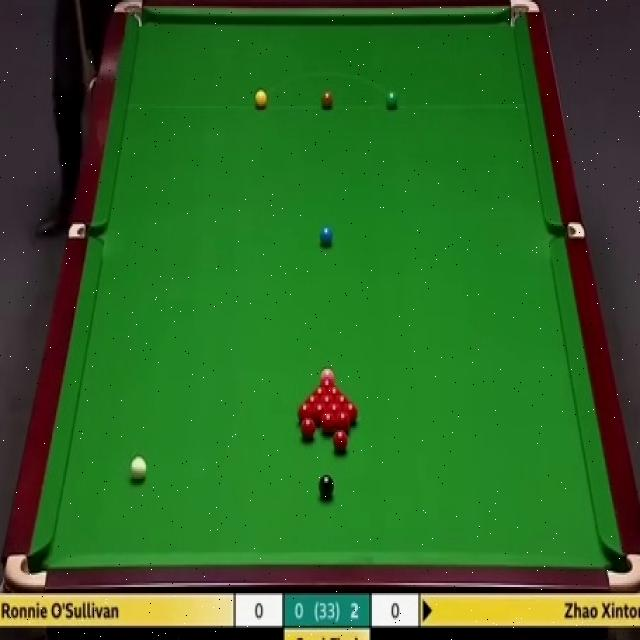black-ball: (319, 473, 334, 499)
blue-ball: (320, 224, 334, 250)
brown-ball: (320, 89, 334, 109)
green-ball: (385, 90, 399, 109)
pink-ball: (319, 366, 334, 384)
red-ball: (299, 419, 315, 442), (313, 403, 328, 426), (334, 429, 348, 453), (341, 404, 357, 424), (335, 411, 350, 432), (297, 404, 312, 424), (334, 394, 349, 413), (322, 412, 334, 434), (313, 385, 327, 403), (321, 394, 334, 413), (326, 385, 342, 400), (306, 393, 319, 410)
white-ball: (129, 455, 148, 485)
yellow-ball: (254, 89, 268, 109)
